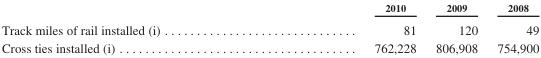table: (0, 1, 538, 54)
table column: (0, 1, 266, 54), (266, 1, 425, 54), (425, 1, 486, 54), (486, 1, 538, 54)
table column header: (0, 1, 538, 17)
table row: (0, 17, 538, 38), (0, 1, 538, 17), (0, 38, 538, 54)
